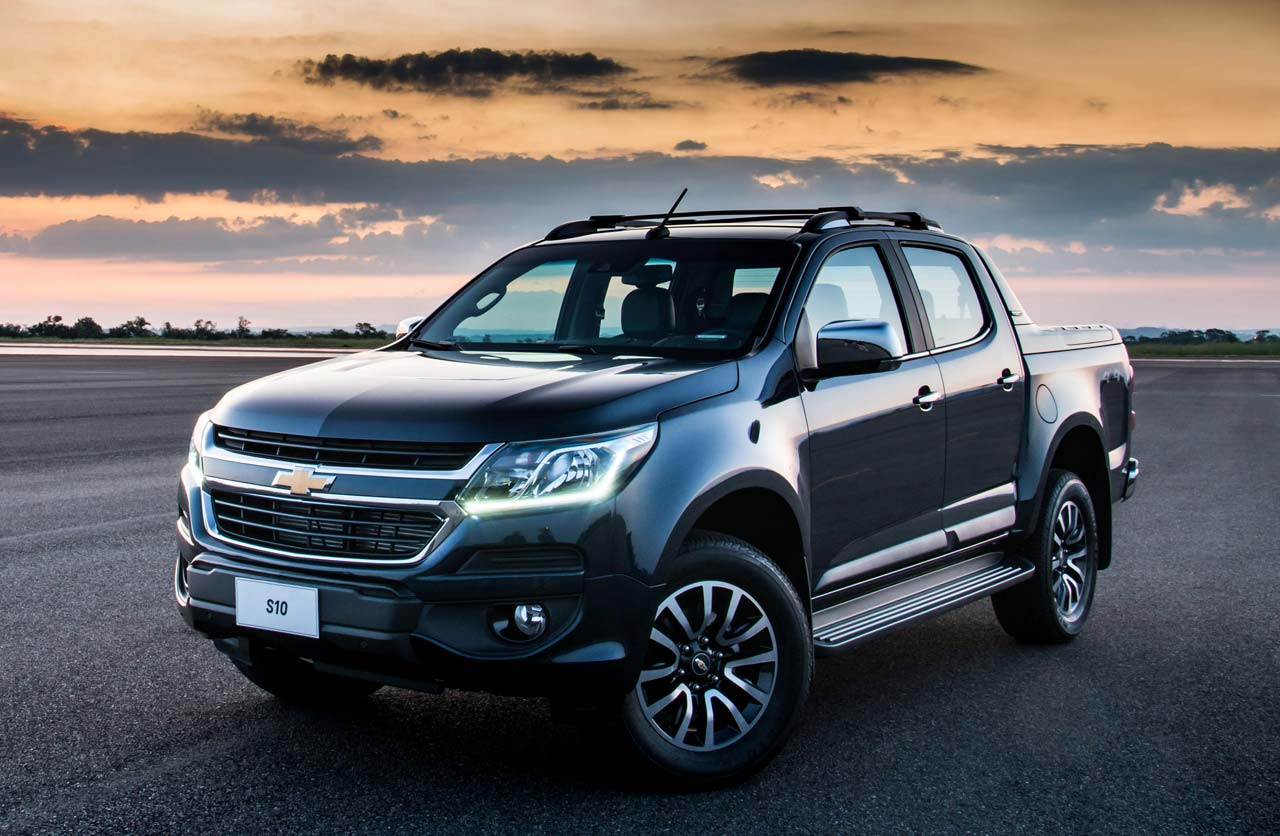pickup: (170, 202, 1145, 788)
